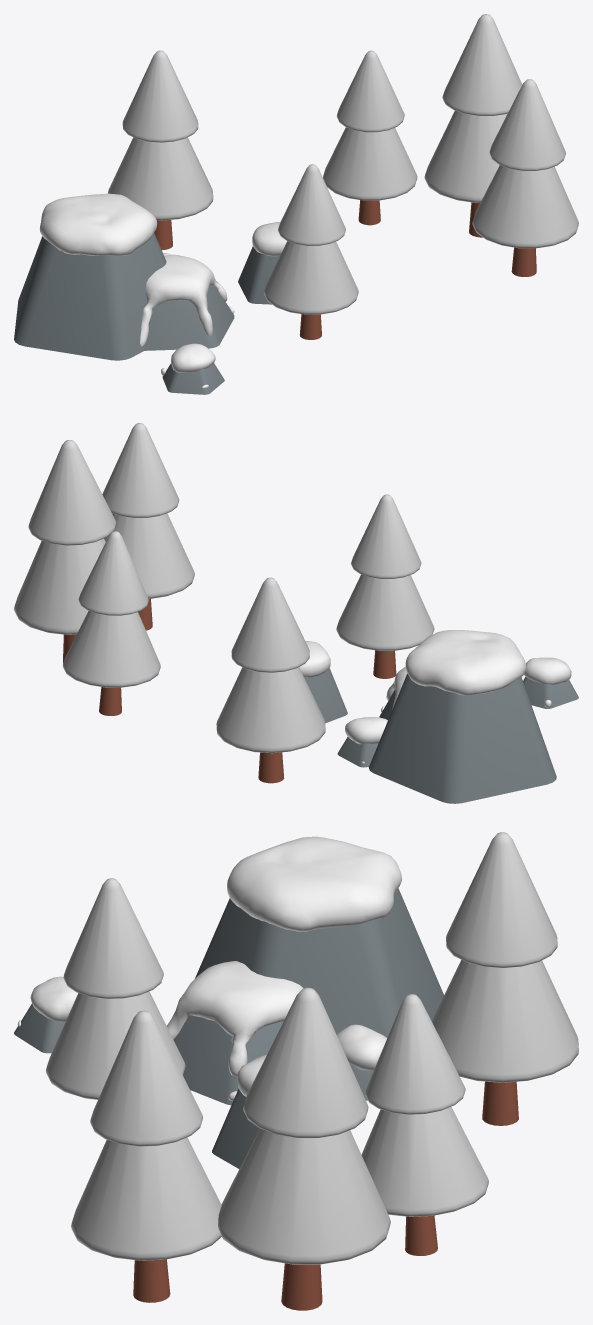
The model's file is detail_treeA.fbx.
3 renders of one model, top to bottom at view 1: azimuth 30°, elevation 25°; view 2: azimuth 150°, elevation 25°; view 3: azimuth 270°, elevation 25°, orthographic. The views are drawn at different scales.
Parts seen in each view (by area): view 1: detail_forestA.006, detail_forestA.018, detail_forestA.012, SnowBall.001, detail_forestA.004, detail_forestA.001, detail_forestA.016, detail_forestA.015, detail_forestA.013, detail_forestA.019, detail_forestA.007, SnowBall.002 (+9 smaller); view 2: detail_forestA.006, detail_forestA.012, SnowBall.001, detail_forestA.016, detail_forestA.015, detail_forestA.001, detail_forestA.004, detail_forestA.013, detail_forestA.019, detail_forestA.018, detail_forestA.002, detail_forestA.005 (+9 smaller); view 3: detail_forestA.015, detail_forestA.006, detail_forestA.018, detail_forestA.012, SnowBall.001, detail_forestA.016, detail_forestA.001, detail_forestA.013, detail_forestA.019, detail_forestA.005, detail_forestA.002, detail_forestA.004 (+11 smaller).
Part boxes in pixels (<box>): detail_forestA.006: <box>14,232,166,360</box>; detail_forestA.018: <box>472,165,578,248</box>; detail_forestA.012: <box>108,137,213,220</box>; SnowBall.001: <box>39,193,157,256</box>; detail_forestA.004: <box>264,241,358,314</box>; detail_forestA.001: <box>323,127,417,200</box>; detail_forestA.016: <box>442,14,522,115</box>; detail_forestA.015: <box>424,110,507,202</box>; detail_forestA.013: <box>122,50,198,142</box>; detail_forestA.019: <box>489,79,565,170</box>; detail_forestA.007: <box>144,284,234,350</box>; SnowBall.002: <box>140,254,234,347</box>; detail_forestA.006: <box>368,674,556,803</box>; detail_forestA.012: <box>216,667,325,753</box>; SnowBall.001: <box>405,630,526,695</box>; detail_forestA.016: <box>28,440,116,545</box>; detail_forestA.015: <box>14,538,105,634</box>; detail_forestA.001: <box>62,611,160,687</box>; detail_forestA.004: <box>336,574,434,650</box>; detail_forestA.013: <box>231,577,309,672</box>; detail_forestA.019: <box>102,423,179,517</box>; detail_forestA.018: <box>104,513,194,598</box>; detail_forestA.002: <box>78,531,148,615</box>; detail_forestA.005: <box>351,494,421,578</box>; detail_forestA.015: <box>218,1128,390,1264</box>; detail_forestA.006: <box>195,888,443,1037</box>; detail_forestA.018: <box>71,1137,221,1260</box>; detail_forestA.012: <box>431,960,578,1082</box>; SnowBall.001: <box>227,836,401,931</box>; detail_forestA.016: <box>243,987,368,1138</box>; detail_forestA.001: <box>361,1107,488,1216</box>; detail_forestA.013: <box>446,832,557,967</box>; detail_forestA.019: <box>90,1010,202,1146</box>; detail_forestA.005: <box>63,878,163,998</box>; detail_forestA.002: <box>365,994,465,1114</box>; detail_forestA.004: <box>46,991,185,1099</box>.
Bounding box in the file's own units: 184 × 73.43 × 118.
